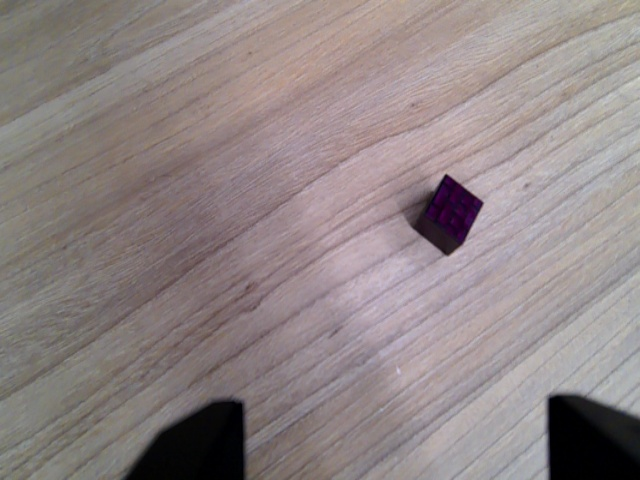brick: (413, 172, 484, 257)
